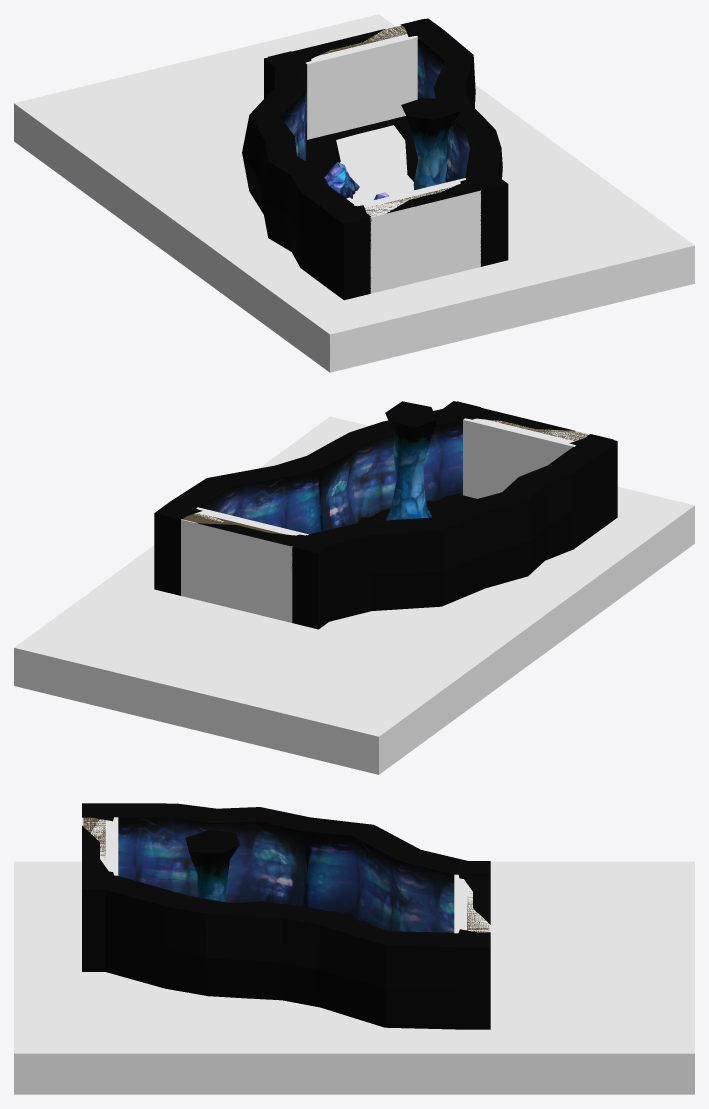
Rendered from Dungeon_052_Road_003.fbx.
3 renders of one model, top to bottom at view 1: azimuth 30°, elevation 25°; view 2: azimuth 150°, elevation 25°; view 3: azimuth 270°, elevation 25°, orthographic. The views are drawn at different scales.
Parts seen in each view (by area): view 1: Cube, Dan1, DoorWay_NavMask (1) (×2), Dungeon_011_Object_010, Dun_011_Door_002_old (×2), Dan1_shadow, Dungeon_011_Object_012; view 2: Cube, Dan1, DoorWay_NavMask (1) (×2), Dungeon_011_Object_010, Dun_011_Door_002_old (×2), Dan1_shadow; view 3: Cube, Dan1, Dun_011_Door_002_old (×2), Dungeon_011_Object_010, DoorWay_NavMask (1) (×2), Dun_011_Door_003_WarpRoom.
Part boxes in pixels (x1,y1,x2,y2): Cube: (14, 14, 694, 372); Dan1: (242, 18, 508, 300); DoorWay_NavMask (1) (×2): (305, 25, 481, 293); Dungeon_011_Object_010: (401, 98, 459, 190); Dun_011_Door_002_old (×2): (268, 18, 503, 222); Dan1_shadow: (306, 116, 417, 181); Dungeon_011_Object_012: (324, 162, 359, 198); Cube: (14, 416, 694, 774); Dan1: (154, 401, 617, 629); DoorWay_NavMask (1) (×2): (181, 418, 589, 622); Dungeon_011_Object_010: (385, 401, 436, 520); Dun_011_Door_002_old (×2): (158, 401, 613, 551); Dan1_shadow: (357, 493, 476, 522); Cube: (14, 861, 694, 1094); Dan1: (82, 803, 490, 1029); Dun_011_Door_002_old (×2): (82, 804, 490, 944); Dungeon_011_Object_010: (185, 829, 239, 901); DoorWay_NavMask (1) (×2): (82, 817, 490, 933); Dun_011_Door_003_WarpRoom: (83, 817, 105, 859).
Size of what is drawn, in the model's own units: 10 by 3.94 by 15.
